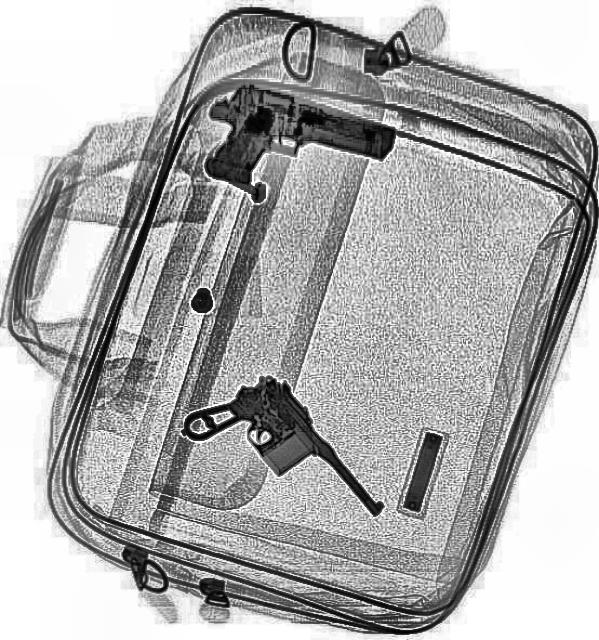Gun: (175, 356, 385, 572), (188, 71, 400, 225)
